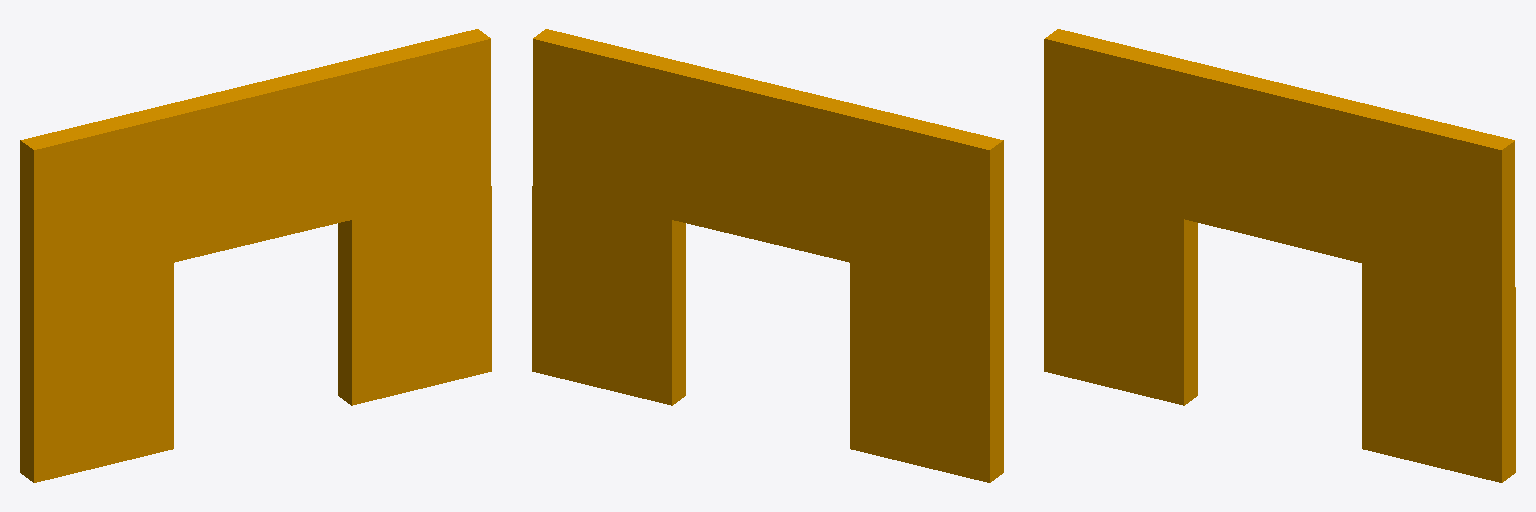
The robot description file, URDF, robot "gate_0_78":
<?xml version="1.0" encoding="UTF-8"?>
<robot name="gate_0_78">
	<link name="base">
		<collision>
			<geometry>
				<mesh filename="../vhacd/gate_0_78_vhacd.obj" scale="1.0 1.0 1.0"/>
			</geometry>
			<origin xyz="0 0 0"/>
			<contact_coefficients mu="0.24" />
		</collision>
		<visual>
			<geometry>
				<mesh filename="../vhacd/gate_0_78_vhacd.obj" scale="1.0 1.0 1.0"/>
			</geometry>
			<origin xyz="0 0 0"/>
		</visual>
		<inertial>
			<mass value="0"/>
			<inertia ixx="0.0" ixy="-0.0" ixz="0.0" iyy="0.0" iyz="0.0" izz="0.0" />
			<origin xyz="1.0 0.05000000074505805 0.7804494261545992"/>
		</inertial>
	</link>
</robot>

--- Facts derived from the render (not from the file) ---
Views: 3 orthographic renders of the robot side by side, from view 1: azimuth 30°, elevation 25°; view 2: azimuth 150°, elevation 25°; view 3: azimuth 330°, elevation 25°.
Robot: gate_0_78 — 1 links, 0 joints (none); root link base; default pose: all joints at 0.
Links seen in each view (by area): view 1: base; view 2: base; view 3: base.
Link boxes in pixels (<box>): base: <box>20,29,491,482</box>; base: <box>532,29,1003,482</box>; base: <box>1044,29,1515,482</box>.
Size in the robot's own frame: 2 by 0.1037 by 1.39 metres.
1 mesh visuals loaded from 1 distinct referenced files (1 OBJ).